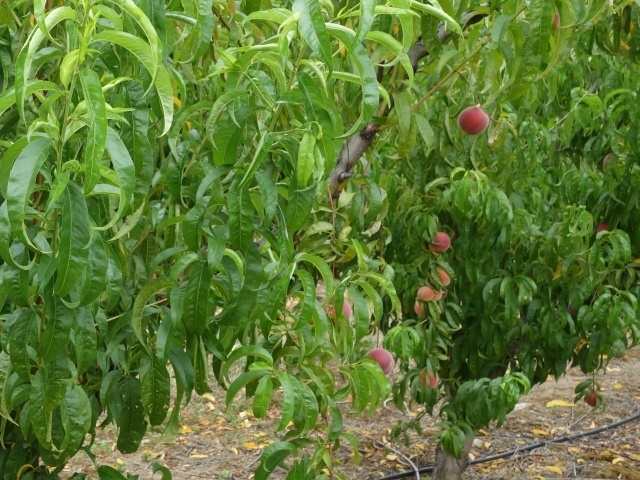peach: (455, 102, 492, 137), (366, 343, 396, 377), (425, 229, 453, 256), (415, 365, 440, 393), (429, 263, 454, 289), (414, 282, 436, 303), (583, 387, 603, 410), (410, 297, 430, 318)
